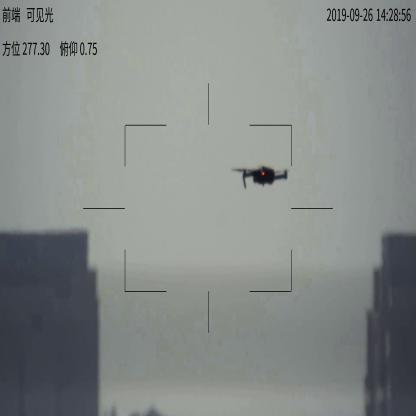uav: (231, 165, 289, 189)
